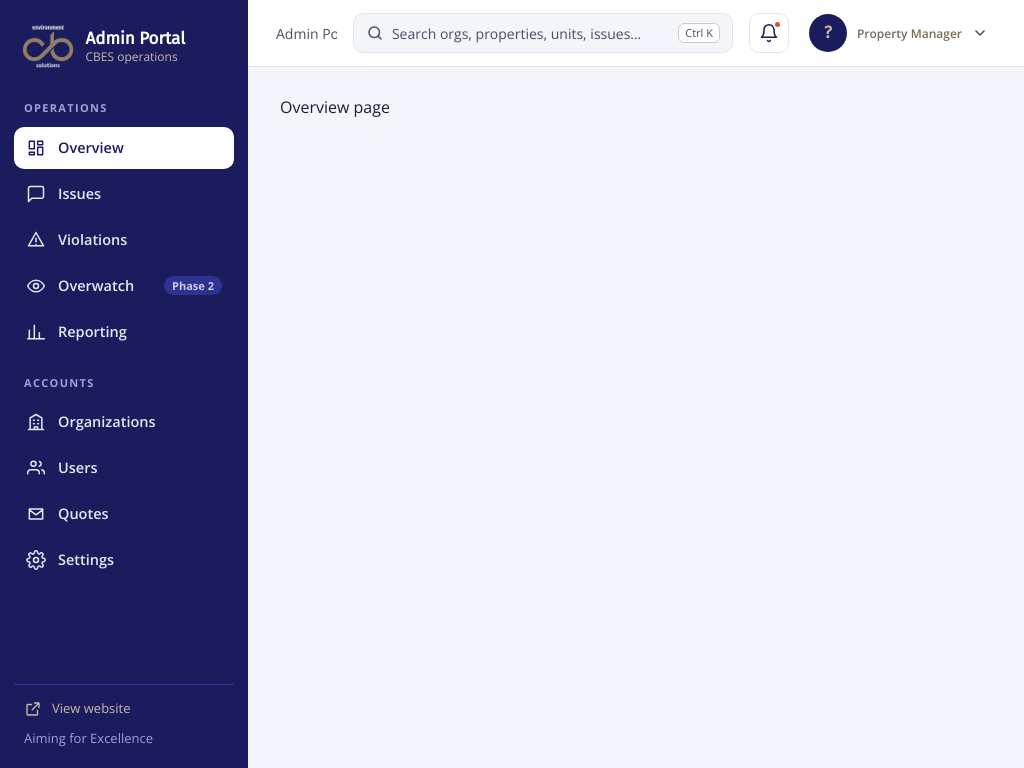
Test: AdminShell › lists notifications and marks them read
The image size is (1024, 768).
Click the button named "Notifications, 1 unread". click: (769, 33)
box: top-left (749, 13), bottom-right (789, 53)
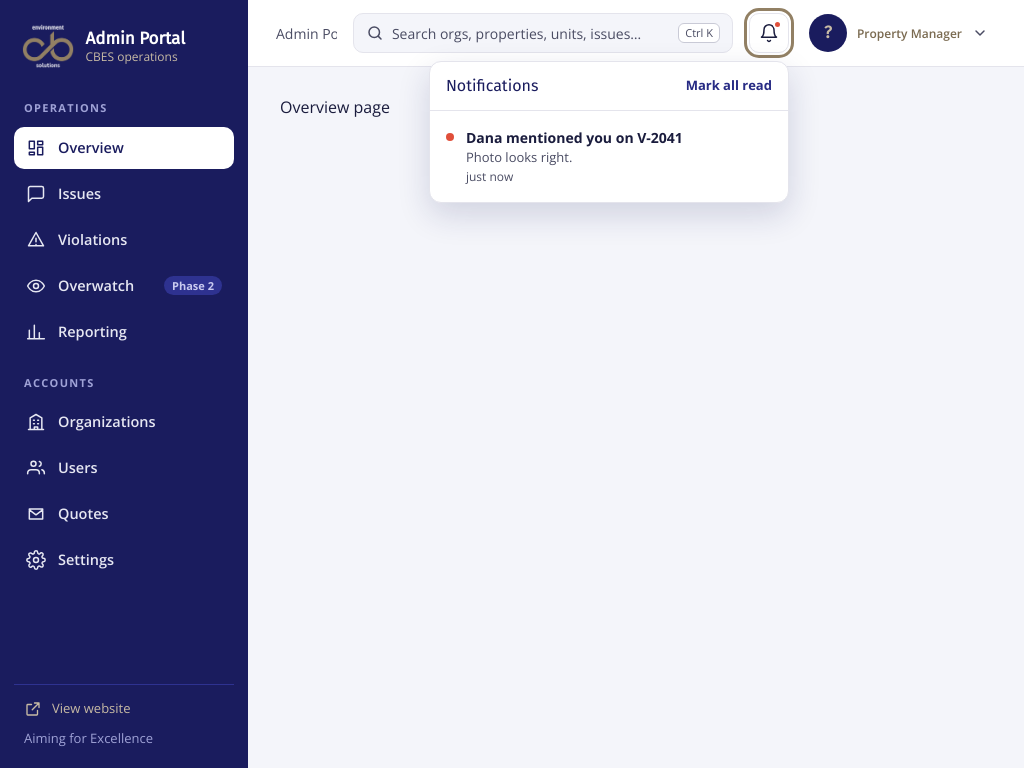
Click the button "Mark all read". click: (729, 86)
box: top-left (686, 76), bottom-right (772, 96)
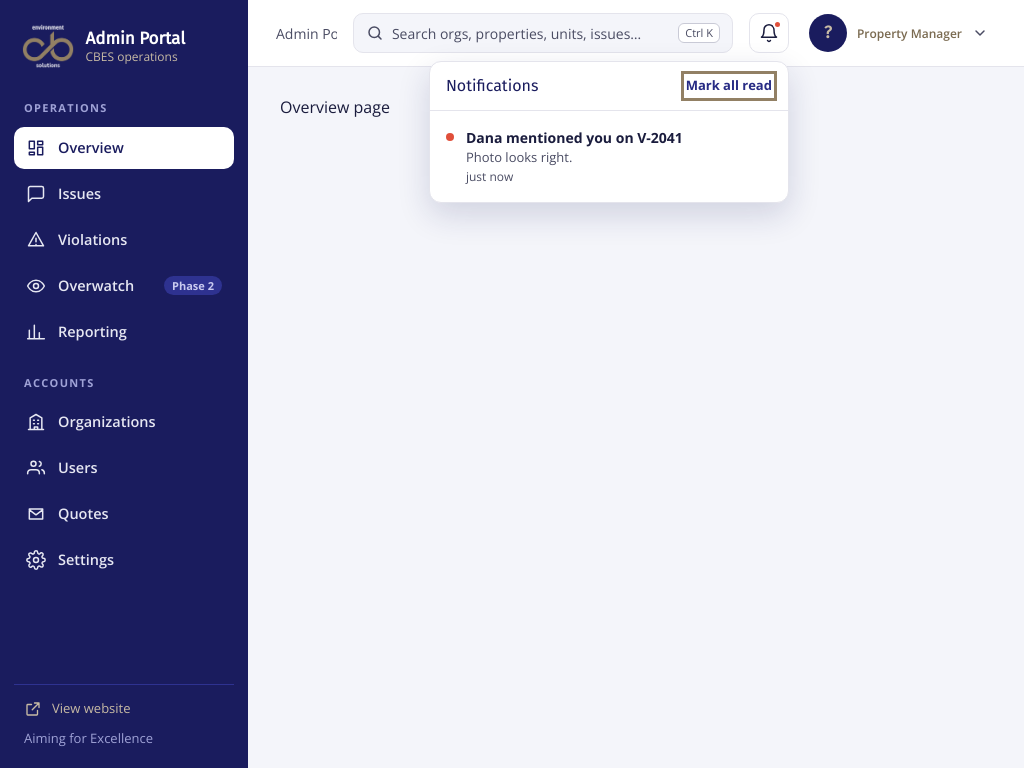
Click the link "Dana mentioned you on V-2041 Photo looks right. just now". click: (574, 138)
box: top-left (436, 117), bottom-right (782, 196)
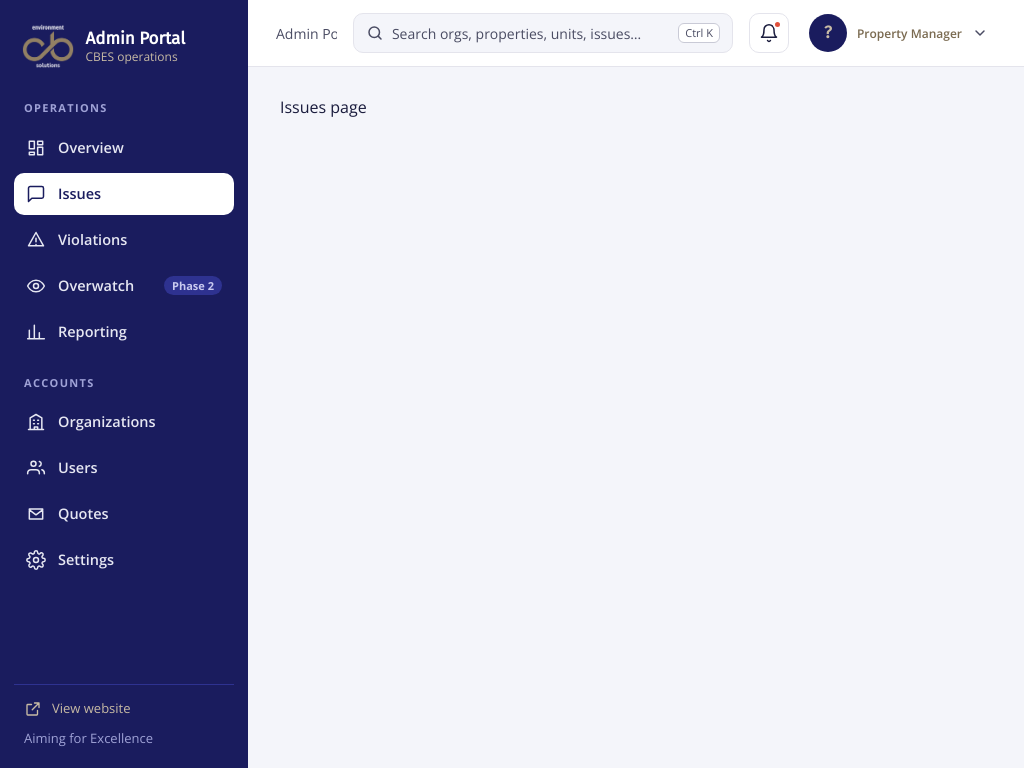
Result: the text "Issues page" is shown at top-left (280, 96), bottom-right (367, 118)
